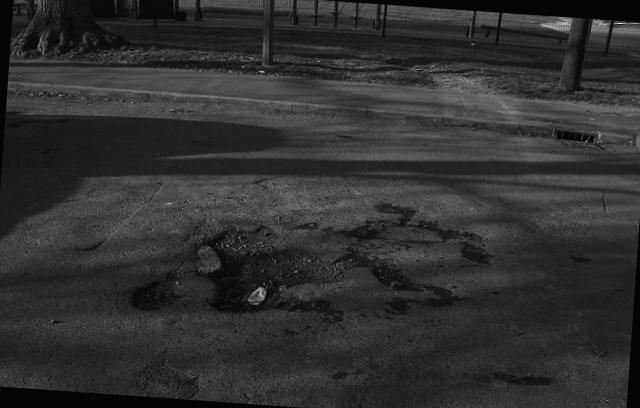Pothole: (118, 182, 501, 357), (474, 348, 565, 401)
